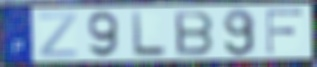9: (222, 7, 258, 58), (87, 11, 121, 59)
B: (173, 10, 216, 57)
F: (265, 8, 305, 56)
L: (130, 10, 168, 58)
Z: (36, 11, 78, 58)
